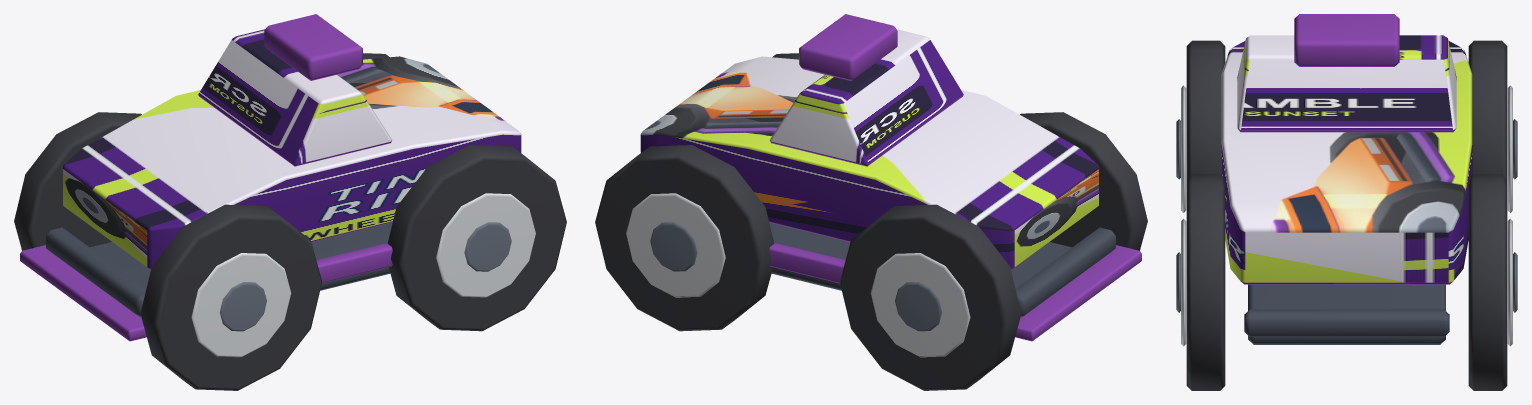
3 renders of one model, left to right at view 1: azimuth 30°, elevation 25°; view 2: azimuth 150°, elevation 25°; view 3: azimuth 270°, elevation 25°, orthographic. The views are drawn at different scales.
Visible parts, largest first — view 1: BW-05_connected_shell, Tire, Tire.002, BW-05_cabin, Tire.001, Rim.002, Rim, custom equipment, custom chin, front bumper, underbody, custom side guard (+2 smaller); view 2: BW-05_connected_shell, Tire.001, Tire.003, BW-05_cabin, Tire, Rim.003, Rim.001, custom equipment, custom chin, front bumper, underbody, custom side guard.001 (+2 smaller); view 3: BW-05_connected_shell, BW-05_cabin, Tire.002, Tire.003, underbody, rear bumper, custom equipment, Tire, Tire.001, Rim.002, Rim.003, Rim (+1 smaller).
Part boxes in pixels (bbox=[...]): BW-05_connected_shell: bbox=[63, 56, 521, 269]; Tire: bbox=[140, 204, 322, 390]; Tire.002: bbox=[387, 145, 566, 331]; BW-05_cabin: bbox=[198, 29, 391, 166]; Tire.001: bbox=[14, 112, 141, 250]; Rim.002: bbox=[436, 193, 535, 297]; Rim: bbox=[191, 253, 291, 357]; custom equipment: bbox=[264, 14, 362, 80]; custom chin: bbox=[20, 245, 146, 341]; front bumper: bbox=[46, 227, 146, 316]; underbody: bbox=[90, 222, 392, 290]; custom side guard: bbox=[316, 243, 392, 283]; BW-05_connected_shell: bbox=[640, 56, 1098, 269]; Tire.001: bbox=[839, 204, 1021, 390]; Tire.003: bbox=[595, 145, 774, 331]; BW-05_cabin: bbox=[770, 29, 963, 166]; Tire: bbox=[1020, 112, 1147, 250]; Rim.003: bbox=[626, 193, 725, 297]; Rim.001: bbox=[870, 253, 970, 357]; custom equipment: bbox=[799, 14, 897, 80]; custom chin: bbox=[1015, 245, 1141, 341]; front bumper: bbox=[1015, 227, 1115, 316]; underbody: bbox=[769, 222, 1071, 290]; custom side guard.001: bbox=[769, 243, 845, 283]; BW-05_connected_shell: bbox=[1221, 40, 1472, 284]; BW-05_cabin: bbox=[1237, 35, 1456, 132]; Tire.002: bbox=[1186, 174, 1225, 390]; Tire.003: bbox=[1468, 174, 1507, 390]; underbody: bbox=[1248, 284, 1445, 344]; rear bumper: bbox=[1244, 309, 1449, 337]; custom equipment: bbox=[1294, 14, 1399, 66]; Tire: bbox=[1186, 40, 1225, 178]; Tire.001: bbox=[1468, 40, 1507, 178]; Rim.002: bbox=[1181, 218, 1186, 346]; Rim.003: bbox=[1507, 218, 1512, 346]; Rim: bbox=[1181, 85, 1186, 212].
Size of the model in its own units: 366 by 222 by 229.
